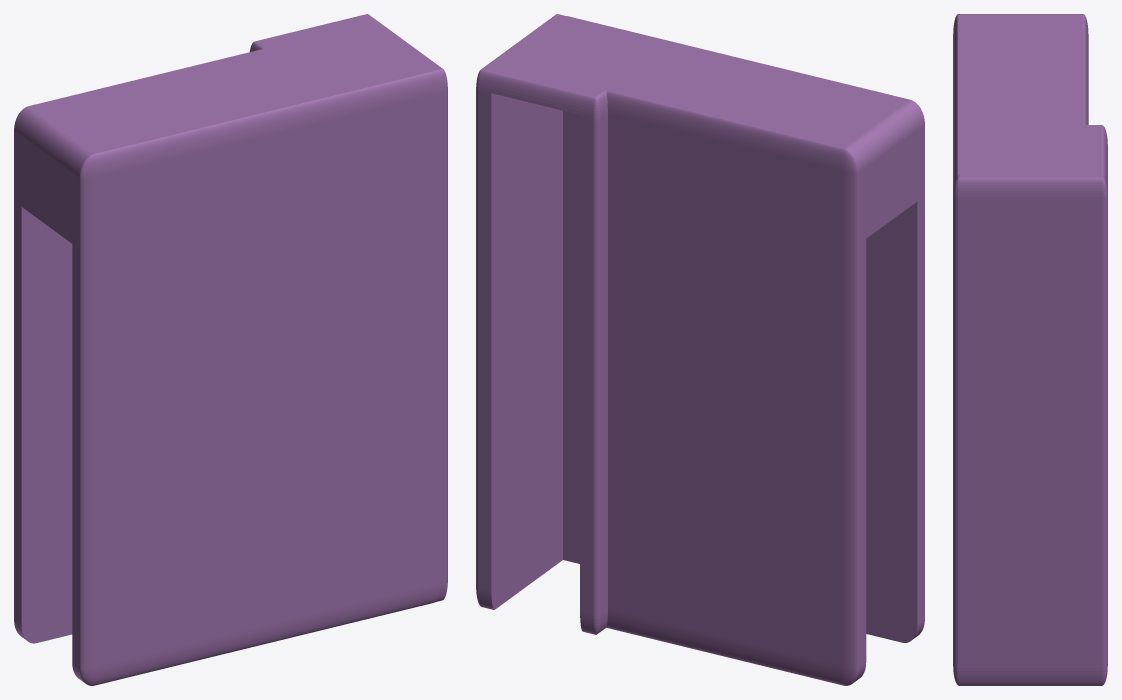
The model's file is spacer_cube_riser_90_0.glb.
The picture shows the model from 3 angles, left to right: view 1: azimuth 30°, elevation 25°; view 2: azimuth 150°, elevation 25°; view 3: azimuth 270°, elevation 25°; orthographic projection. The views are drawn at different scales.
Visible parts, largest first — view 1: Mesh_Mesh_head_geo.001_lambert2SG.001; view 2: Mesh_Mesh_head_geo.001_lambert2SG.001; view 3: Mesh_Mesh_head_geo.001_lambert2SG.001.
Boxes of the visible parts, x1,y1,x2,y2 form: Mesh_Mesh_head_geo.001_lambert2SG.001: (14,14,447,685); Mesh_Mesh_head_geo.001_lambert2SG.001: (476,14,924,685); Mesh_Mesh_head_geo.001_lambert2SG.001: (953,14,1107,685).
Size of the model in its own units: 0.0667 by 0.0921 by 0.0254.
